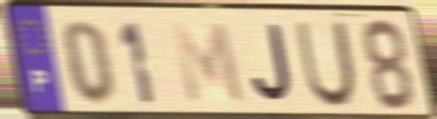0: (60, 18, 120, 109)
1: (118, 20, 159, 108)
8: (360, 16, 418, 114)
J: (249, 22, 296, 107)
M: (168, 20, 249, 108)
U: (293, 19, 360, 111)
